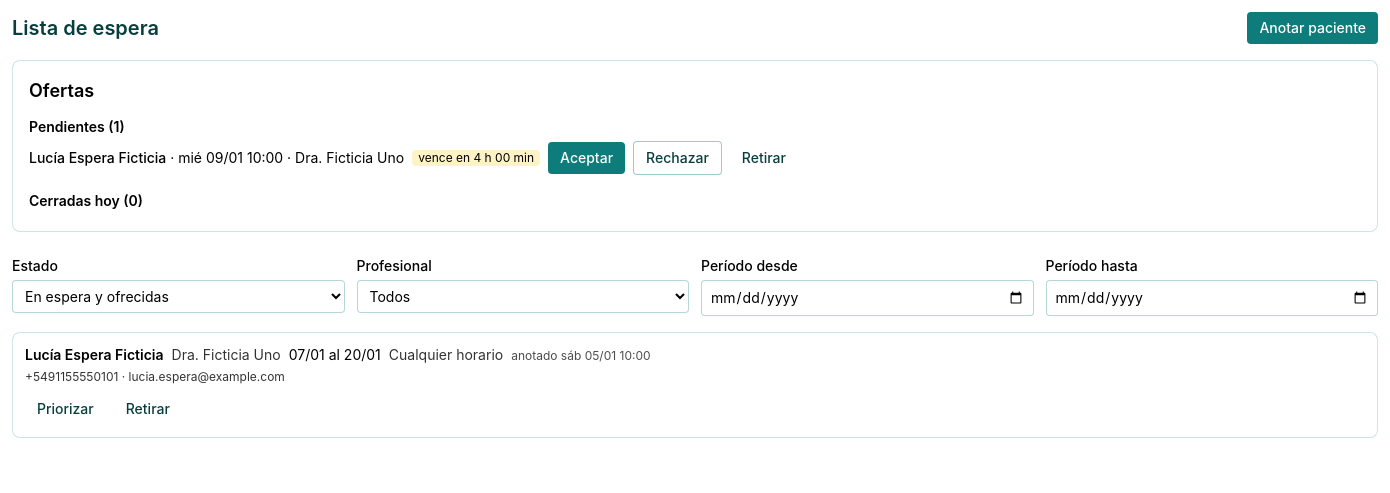
Test: OffersPanel › hueco ocupado al aceptar explica que la entrada quedó prioritaria
Click the button with aria-label "Aceptar por teléfono" at coordinates (587, 158), box [548,142,625,174]
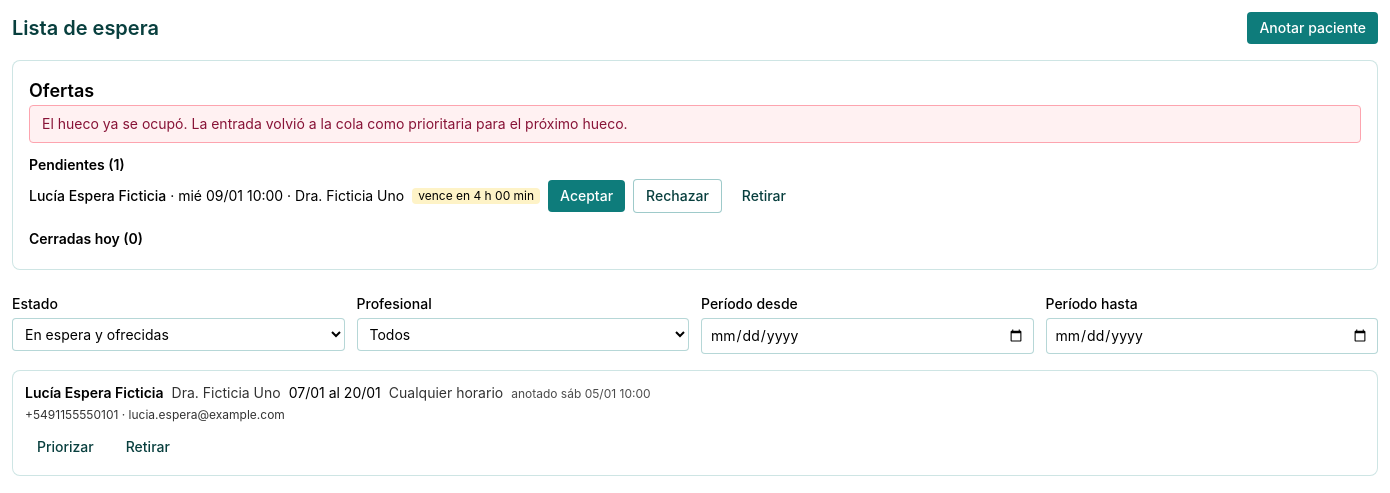
Check: the message shows "volvió a la cola como prioritaria", box [42,115,628,132]
